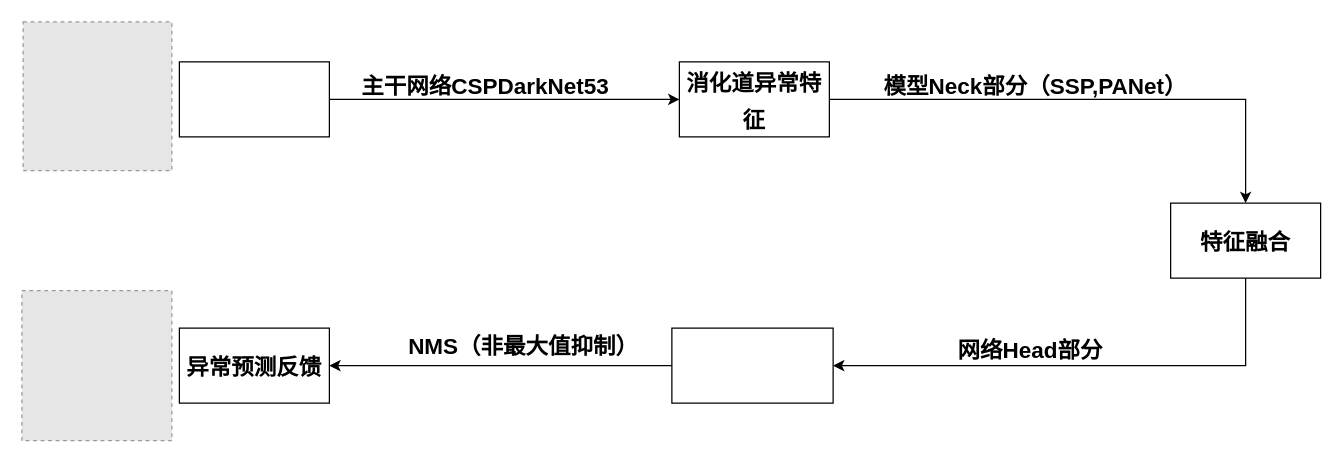
The diagram is 1343 pixels wide and 463 high, and some of its shapes have lost their labels. Grey dashed boxes stand in for pictures. The shapes that lost their labels are listed below. From the top down, each one's centre as x and y in pixels, then its label:
At (x=253, y=99): "消化道内窥镜数据".
At (x=752, y=365): "异常预测种类位置 Anchor 框".
